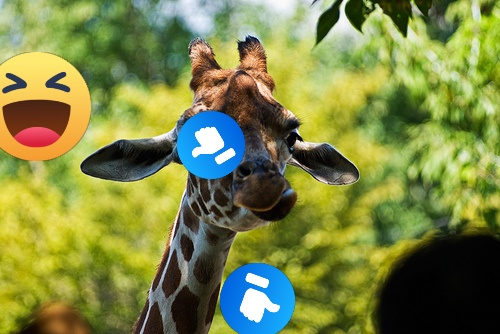haha: (0, 52, 91, 161)
like: (220, 263, 295, 334), (177, 111, 245, 179)
